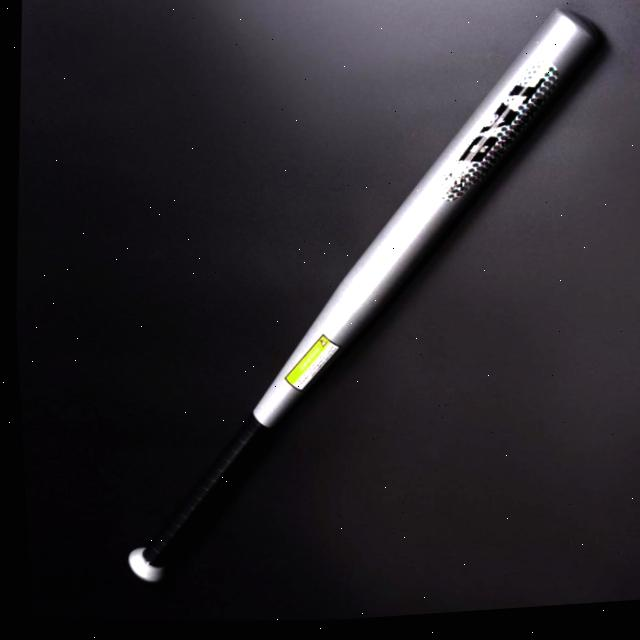baseball bat: (24, 0, 640, 638)
